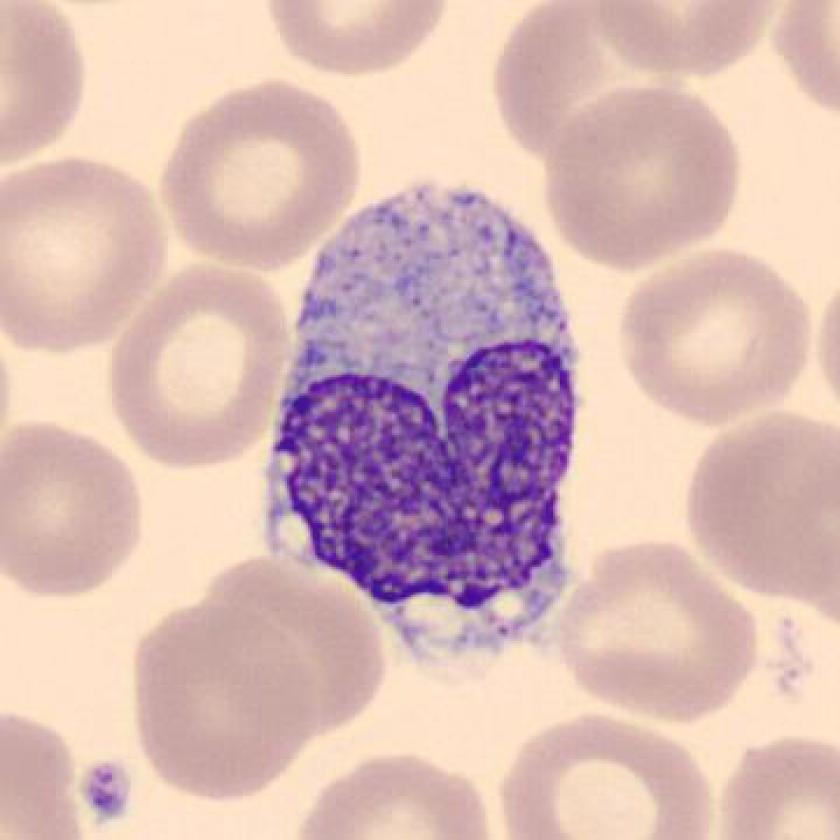monocyte: (246, 163, 610, 686)
